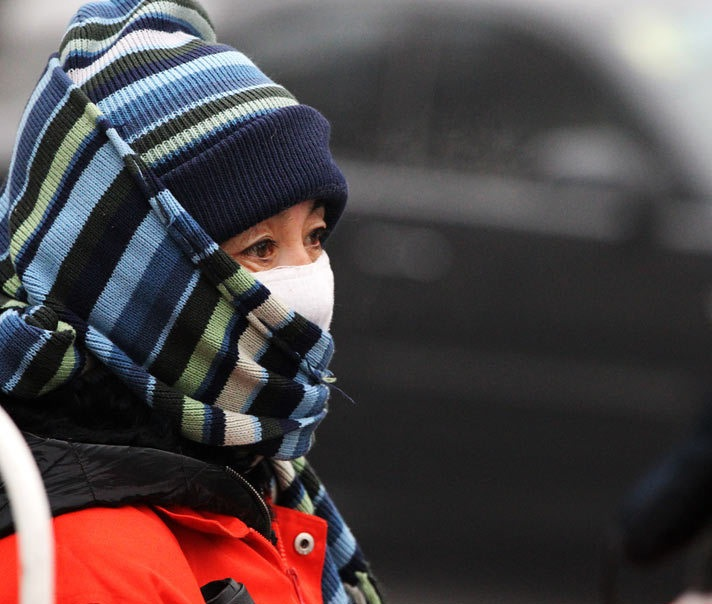face_mask: (176, 164, 336, 416)
